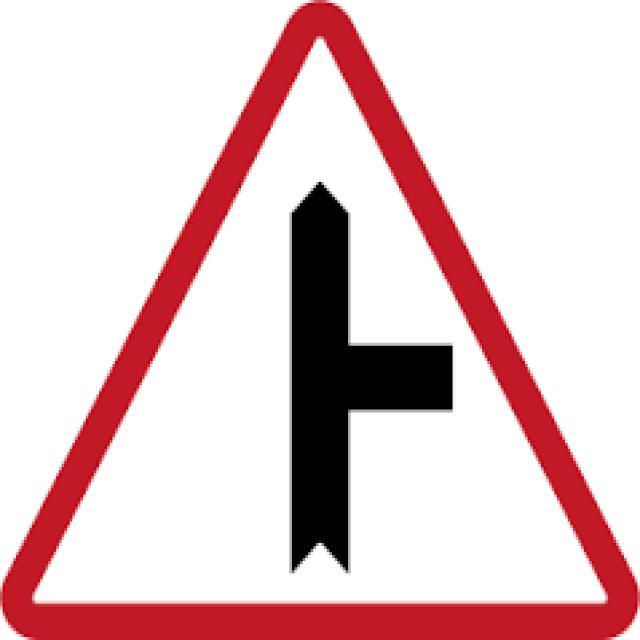side road right: (10, 15, 622, 627)
